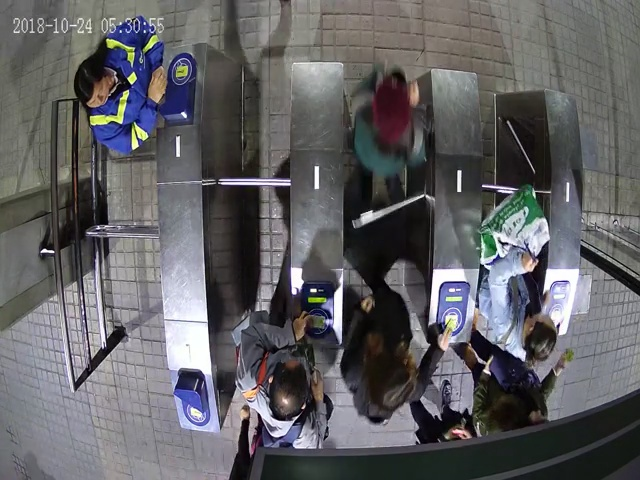Chaleco_azul: (74, 15, 169, 155)
